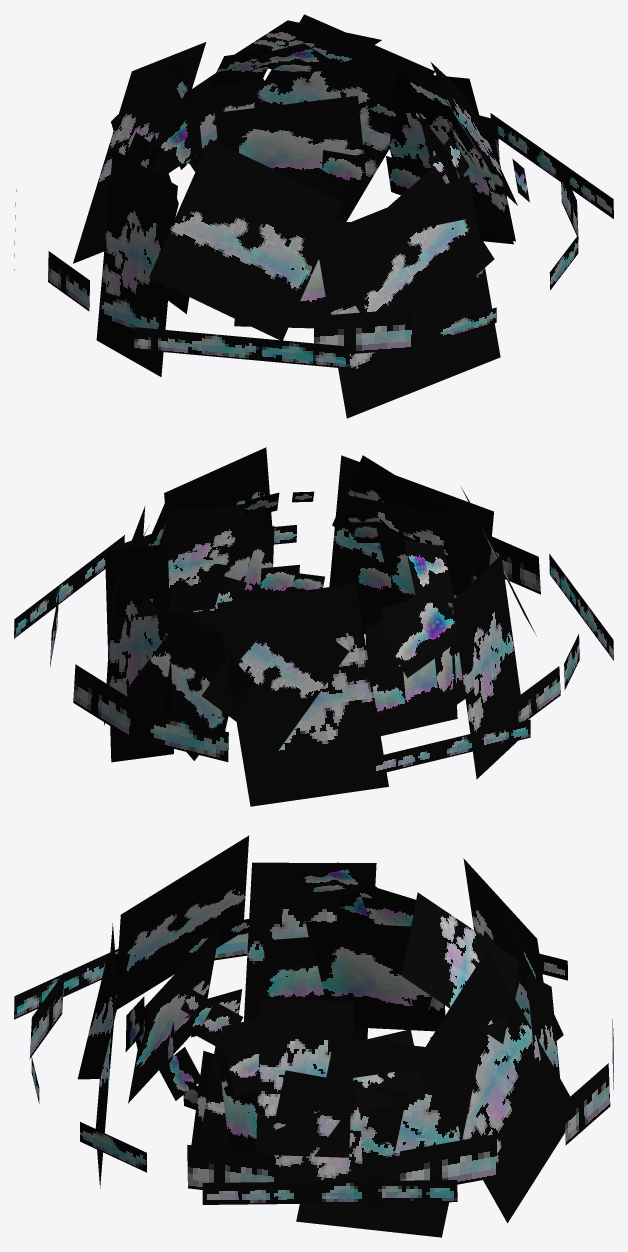
File: objects_un_cloudtest02.gltf
The picture shows the model from 3 angles, top to bottom: view 1: azimuth 30°, elevation 25°; view 2: azimuth 150°, elevation 25°; view 3: azimuth 270°, elevation 25°; orthographic projection. The views are drawn at different scales.
Parts seen in each view (by area): view 1: objects_un_cloudtest02_mesh_shape:objects_un_cloudtest02_thi (×3), objects_un_cloudtest02_mesh_shape:objects_un_cloudtest02_hor (×3), objects_un_cloudtest02_mesh_shape:objects_un_cloudtest02_lar, objects_un_cloudtest02_mesh_shape:objects_un_cloudtest02_sin (×2); view 2: objects_un_cloudtest02_mesh_shape:objects_un_cloudtest02_thi (×3), objects_un_cloudtest02_mesh_shape:objects_un_cloudtest02_hor (×3), objects_un_cloudtest02_mesh_shape:objects_un_cloudtest02_lar, objects_un_cloudtest02_mesh_shape:objects_un_cloudtest02_mid, objects_un_cloudtest02_mesh_shape:objects_un_cloudtest02_sin (×2); view 3: objects_un_cloudtest02_mesh_shape:objects_un_cloudtest02_thi (×4), objects_un_cloudtest02_mesh_shape:objects_un_cloudtest02_hor (×3), objects_un_cloudtest02_mesh_shape:objects_un_cloudtest02_lar, objects_un_cloudtest02_mesh_shape:objects_un_cloudtest02_mid, objects_un_cloudtest02_mesh_shape:objects_un_cloudtest02_sin.
Part boxes in pixels (box(x1,y1,x2,y2)): objects_un_cloudtest02_mesh_shape:objects_un_cloudtest02_thi (×3): box(73, 14, 517, 418); objects_un_cloudtest02_mesh_shape:objects_un_cloudtest02_hor (×3): box(14, 99, 613, 368); objects_un_cloudtest02_mesh_shape:objects_un_cloudtest02_lar: box(163, 96, 458, 328); objects_un_cloudtest02_mesh_shape:objects_un_cloudtest02_sin (×2): box(150, 61, 475, 195); objects_un_cloudtest02_mesh_shape:objects_un_cloudtest02_thi (×3): box(104, 447, 536, 806); objects_un_cloudtest02_mesh_shape:objects_un_cloudtest02_hor (×3): box(14, 491, 613, 775); objects_un_cloudtest02_mesh_shape:objects_un_cloudtest02_lar: box(170, 505, 471, 735); objects_un_cloudtest02_mesh_shape:objects_un_cloudtest02_mid: box(241, 526, 465, 723); objects_un_cloudtest02_mesh_shape:objects_un_cloudtest02_sin (×2): box(260, 522, 404, 659); objects_un_cloudtest02_mesh_shape:objects_un_cloudtest02_thi (×4): box(77, 835, 570, 1237); objects_un_cloudtest02_mesh_shape:objects_un_cloudtest02_hor (×3): box(14, 918, 613, 1204); objects_un_cloudtest02_mesh_shape:objects_un_cloudtest02_lar: box(128, 921, 439, 1149); objects_un_cloudtest02_mesh_shape:objects_un_cloudtest02_mid: box(191, 937, 445, 1152); objects_un_cloudtest02_mesh_shape:objects_un_cloudtest02_sin: box(136, 882, 413, 1109).
Bounding box in the file's own units: 14588 × 7279 × 13840.
11 materials, 11 textured.
